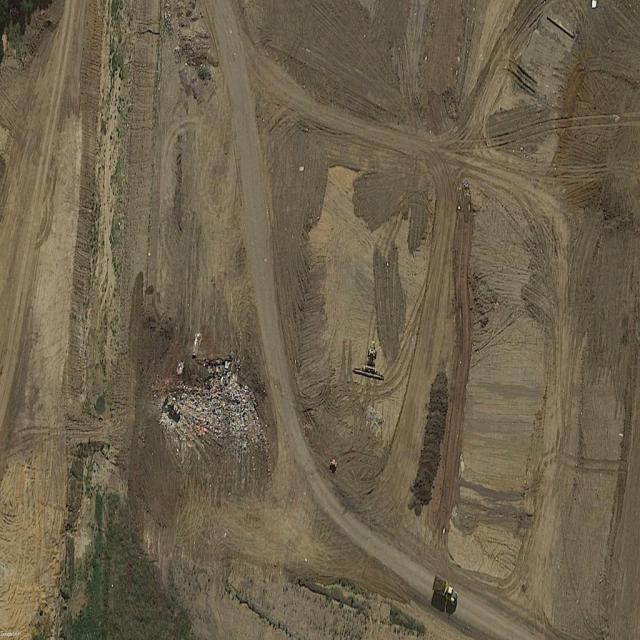dump_site: (154, 353, 267, 459)
